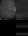pot: (0, 0, 16, 20)
